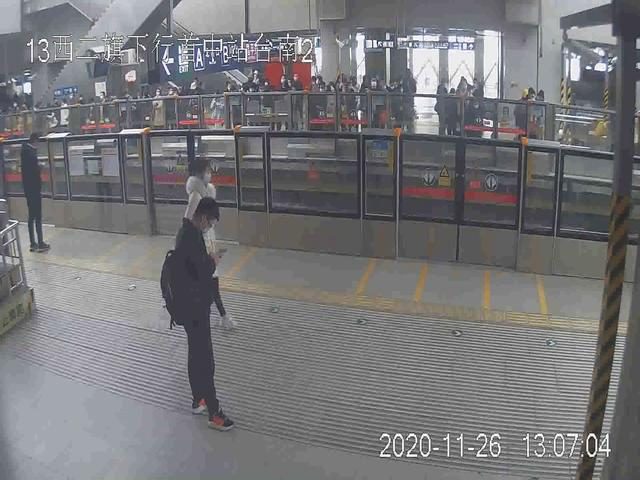person: (173, 198, 236, 435), (184, 156, 235, 327), (19, 132, 52, 251)
